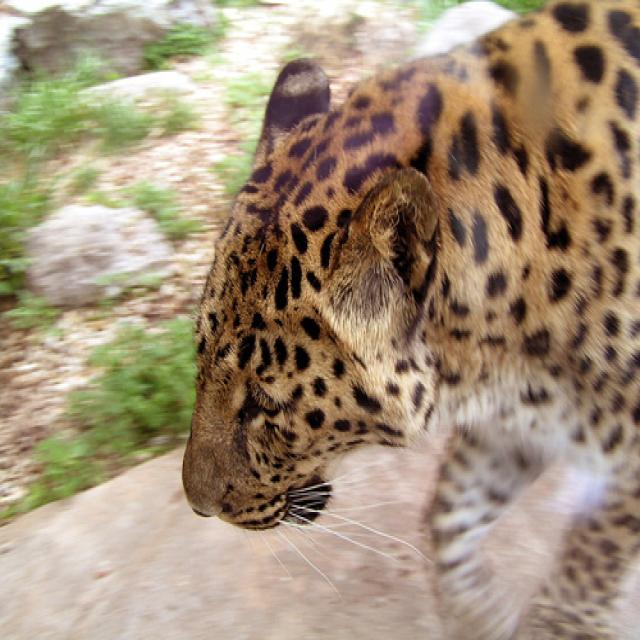Leopard: (182, 0, 637, 637)
